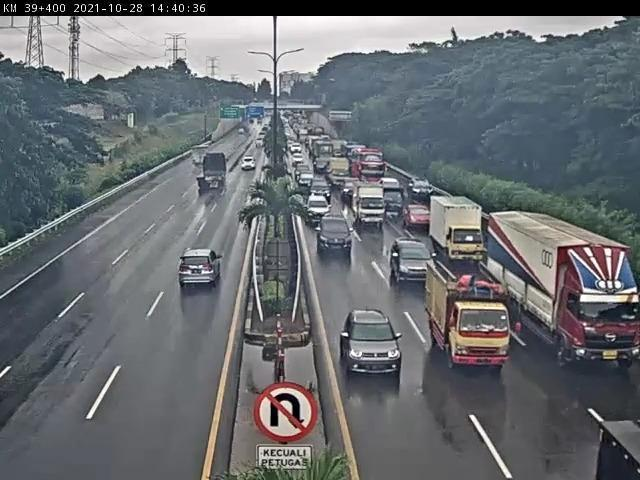car: (339, 311, 401, 376), (388, 241, 436, 286), (316, 214, 355, 254), (178, 251, 221, 287), (402, 204, 436, 231), (307, 195, 335, 224), (383, 186, 409, 217), (240, 156, 258, 176)
truck: (489, 214, 640, 365), (425, 259, 511, 367), (432, 198, 491, 264), (355, 181, 392, 230), (198, 153, 230, 193)
